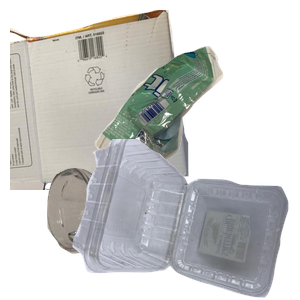cardboard: (10, 10, 191, 190)
glass: (44, 165, 178, 300)
plastic: (70, 139, 300, 300)
trash: (92, 44, 300, 211)
